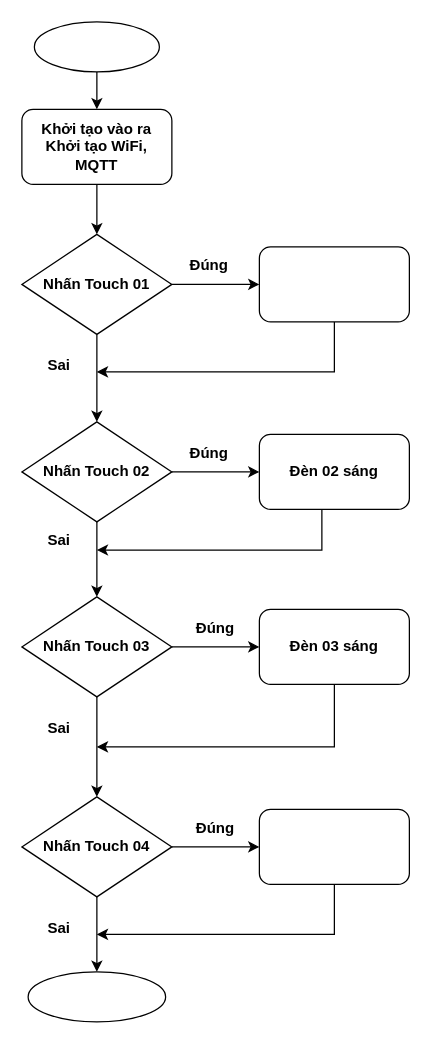
Image size: 431x1044. Some labels were removed from this diagram. Here are the shapes that lost their labels. From the top down, the box of each, then its label:
(33, 21, 159, 72): Bắt đầu
(258, 246, 409, 322): Đèn 01 sáng
(258, 808, 409, 884): Đèn 04 sáng
(27, 971, 166, 1022): Kết thúc
